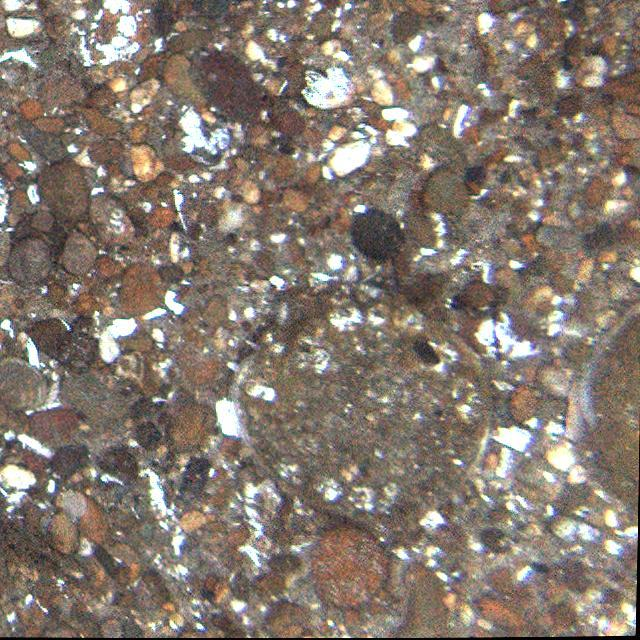scallop: (238, 299, 494, 525)
